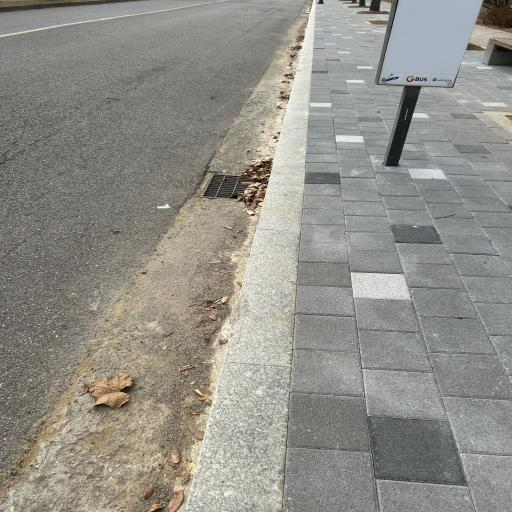debris: (235, 161, 267, 200), (224, 173, 229, 175)
drain: (200, 159, 272, 202)
